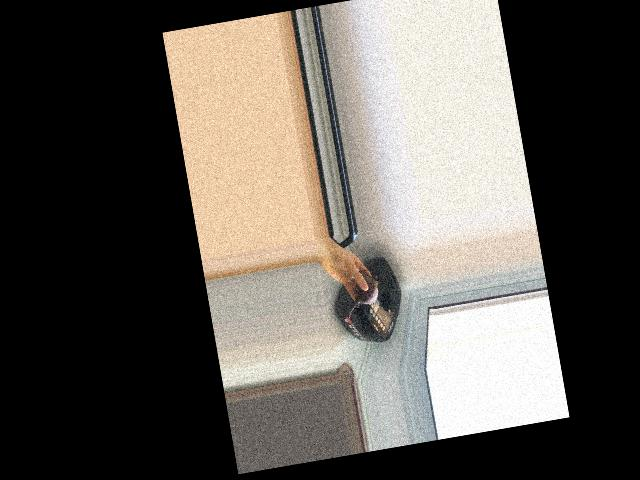beet: (340, 268, 383, 318)
